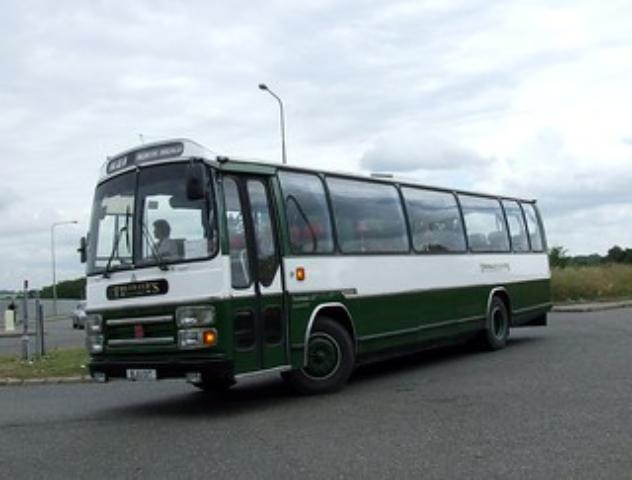bus: (83, 138, 553, 395)
